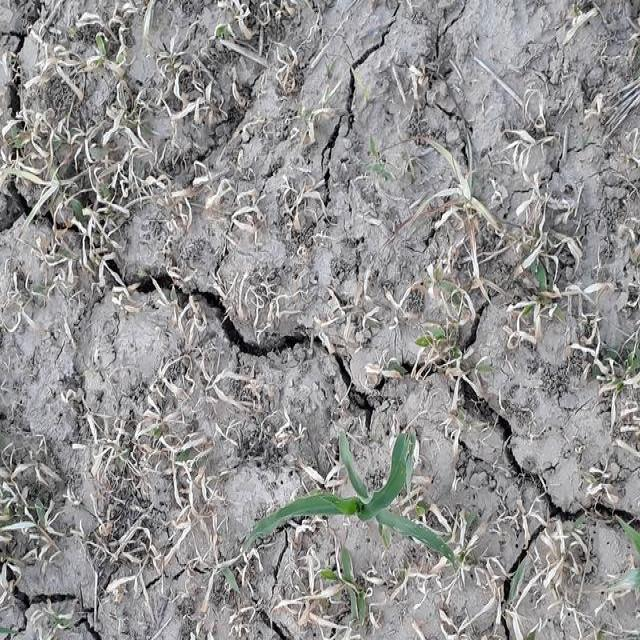weed: (252, 416, 458, 554)
